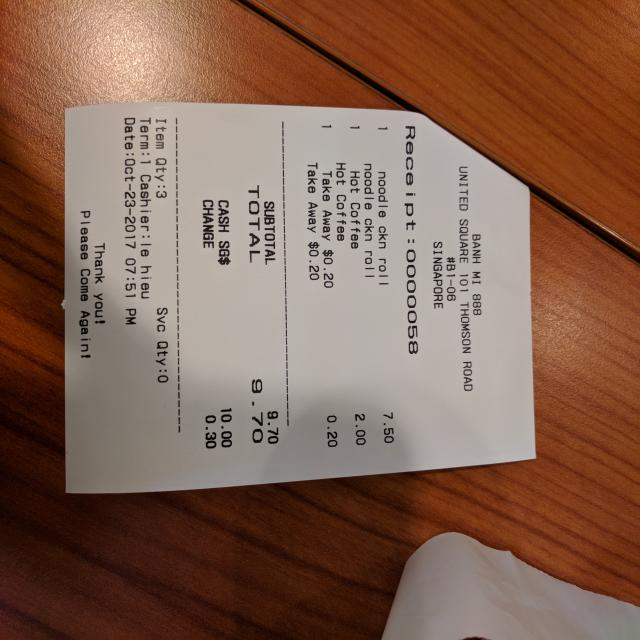bill_region: (238, 108, 407, 466)
